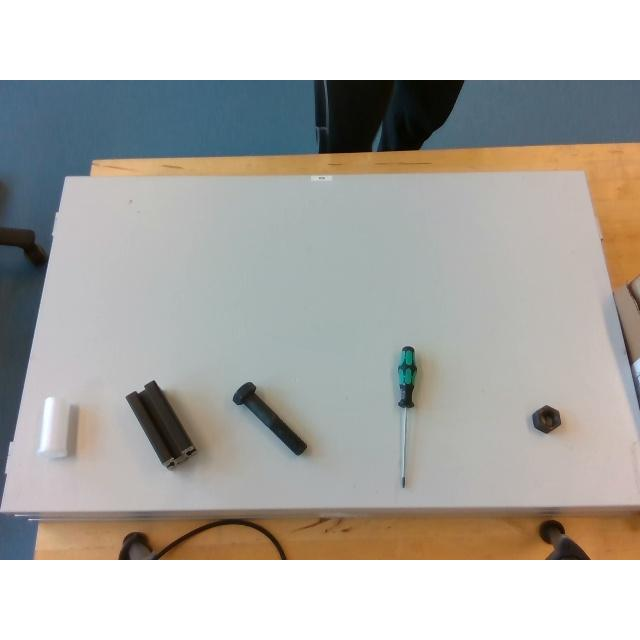M20: (530, 405, 562, 433)
M20_100: (234, 382, 306, 454)
S40_40_B: (124, 380, 196, 468)
Screwdriver: (396, 346, 416, 488)
Spacer: (38, 396, 70, 459)
